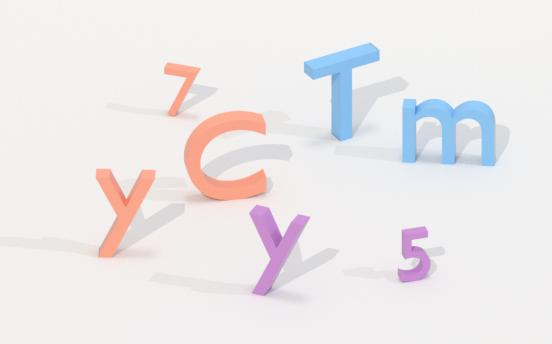5: (397, 223, 435, 286)
7: (161, 61, 201, 120)
Y: (241, 190, 310, 299), (88, 163, 160, 264)
c: (181, 107, 273, 204)
m: (394, 92, 505, 176)
t-hoa: (301, 35, 381, 146)
